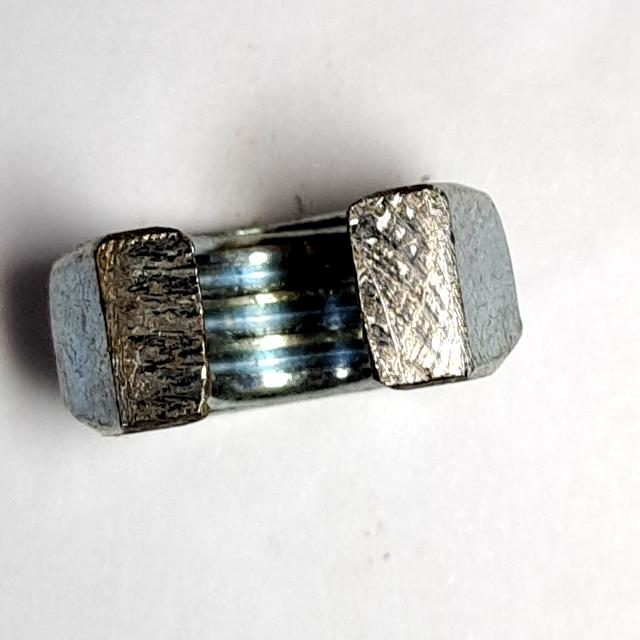Side-Fracture: (42, 169, 536, 450)
